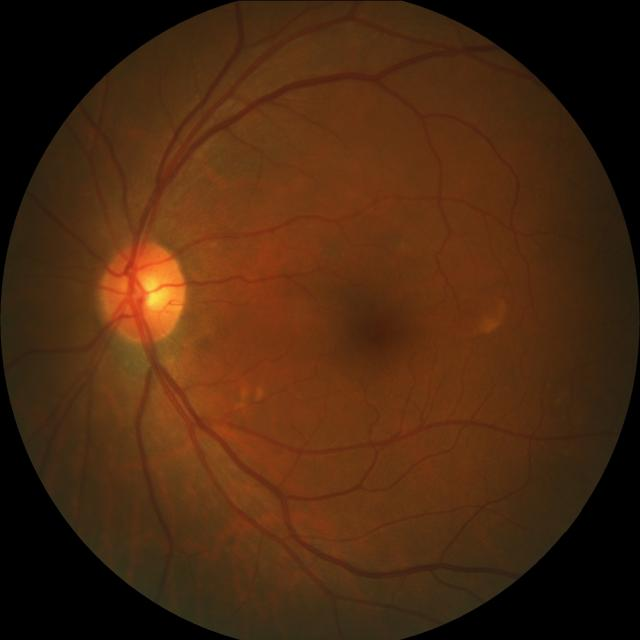OC: (126, 269, 164, 308)
OD: (99, 242, 184, 340)
